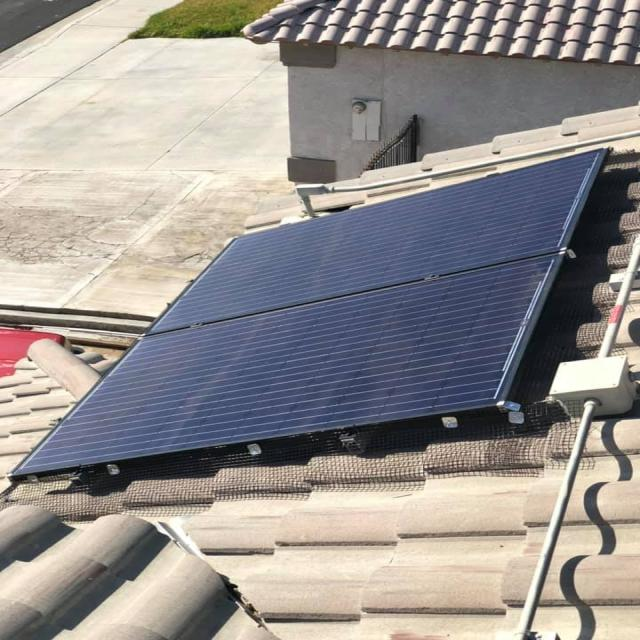dust-solar-panel: (17, 143, 610, 468)
